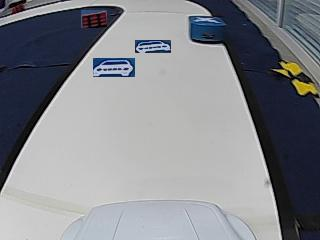prop: (190, 16, 226, 44)
